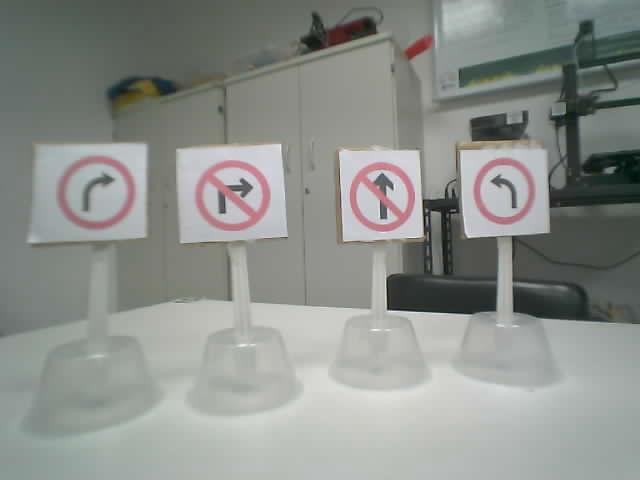R-25a_esquerda: (472, 157, 536, 224)
R-25b_direita: (57, 154, 137, 230)
R-3_sentido-proibido: (350, 161, 416, 233)
R-4b_proibido-direita: (194, 159, 270, 231)
